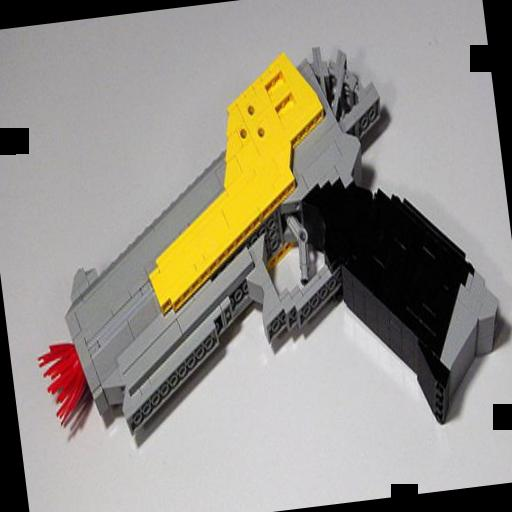Handgun: (5, 18, 512, 484)
